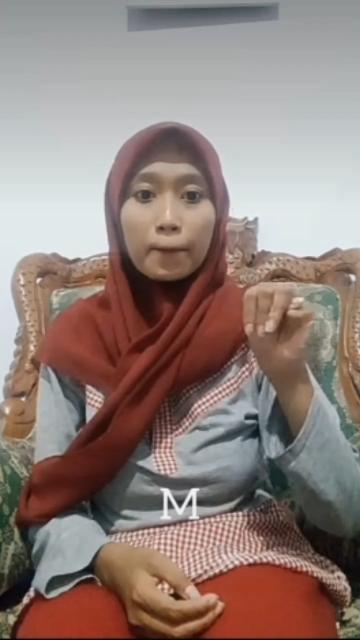M: (236, 276, 322, 374)
